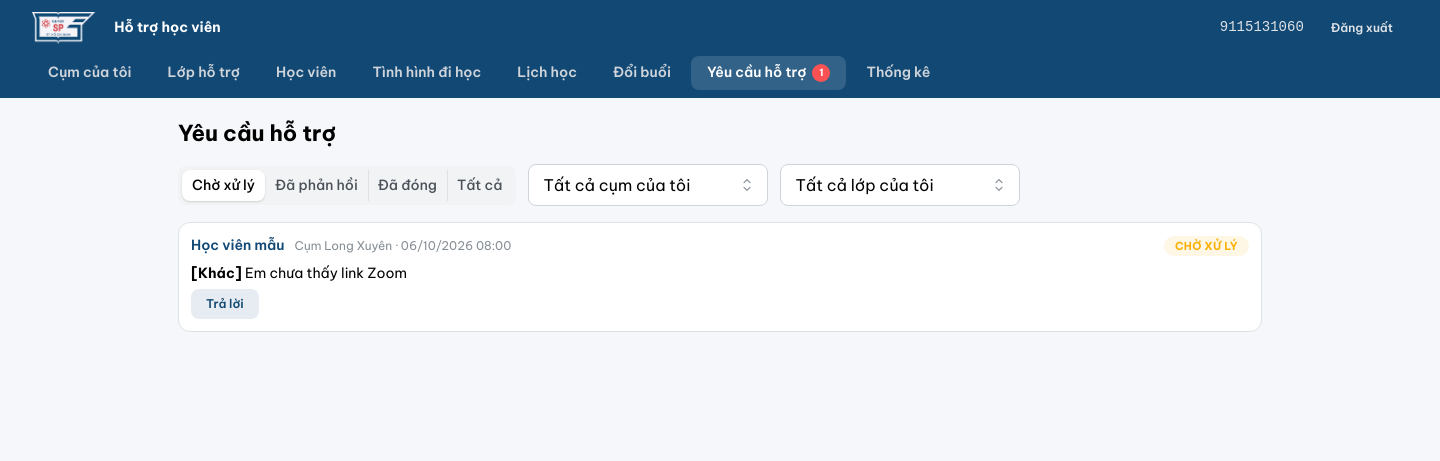
Test: Người hỗ trợ — Yêu cầu hỗ trợ của cụm › trả lời thành công -> gửi đúng nội dung, ticket rời hàng chờ
The image size is (1440, 461).
Click the button "Trả lời" at (225, 304), box [191,290,259,320]
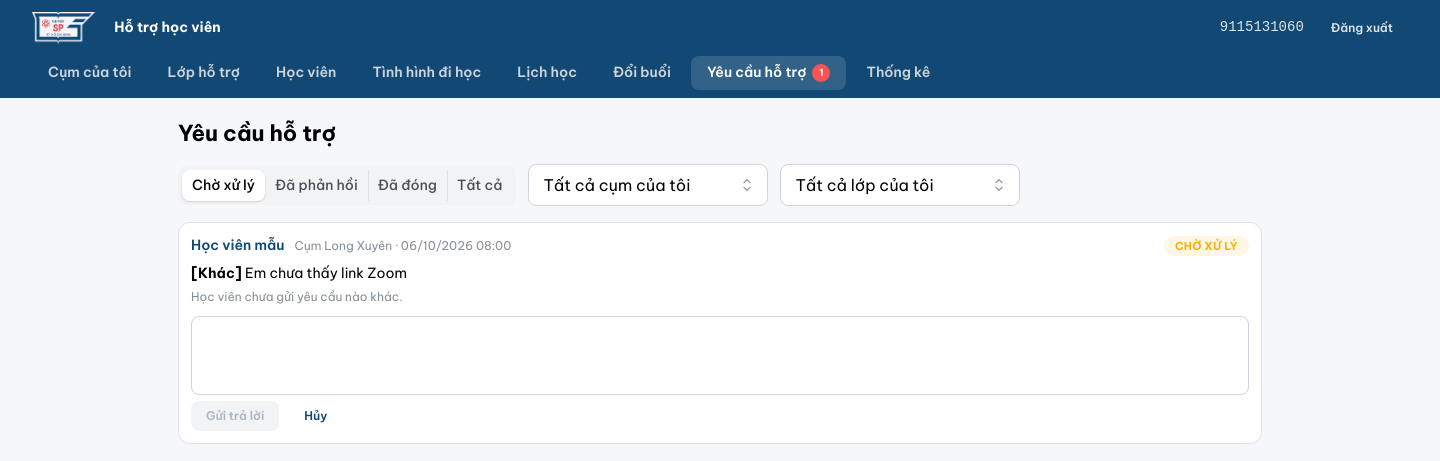
Type "Link ở mục Lớp học" into the text box named "Nội dung trả lời" at (720, 356), box [191,316,1249,395]
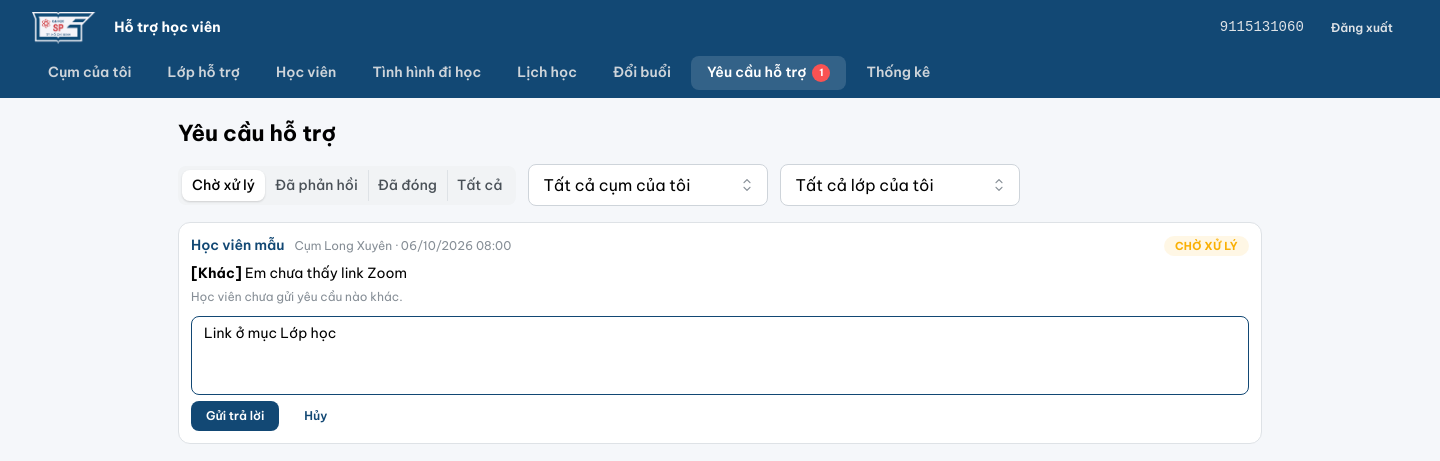
Click the button "Gửi trả lời" at (235, 416), box [191,401,279,431]
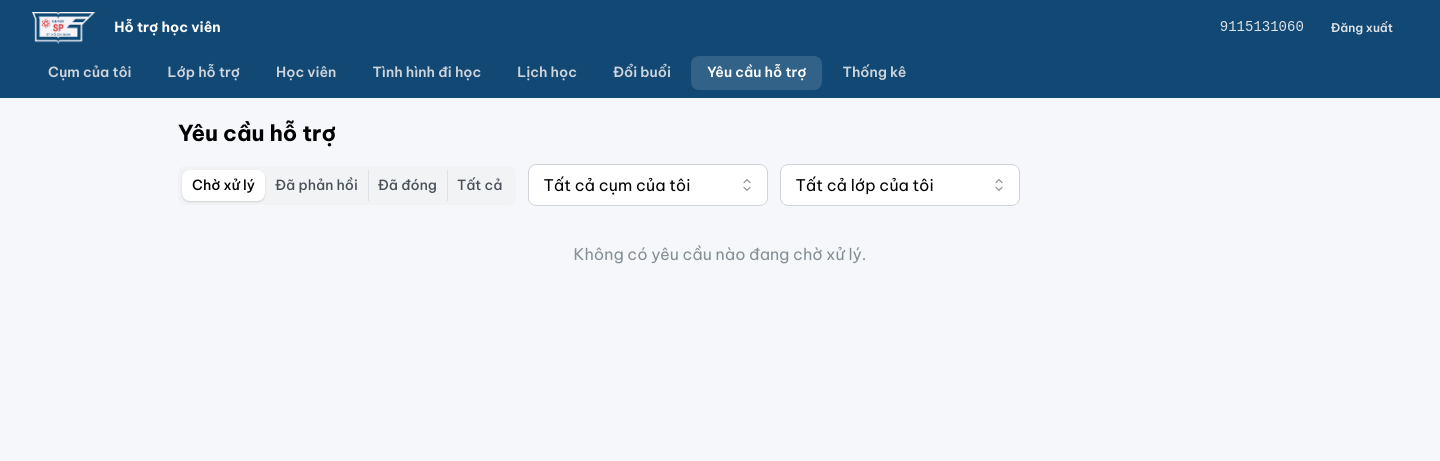
Check: the text "Không có yêu cầu nào đang chờ xử lý." is shown, box [574,244,866,264]
